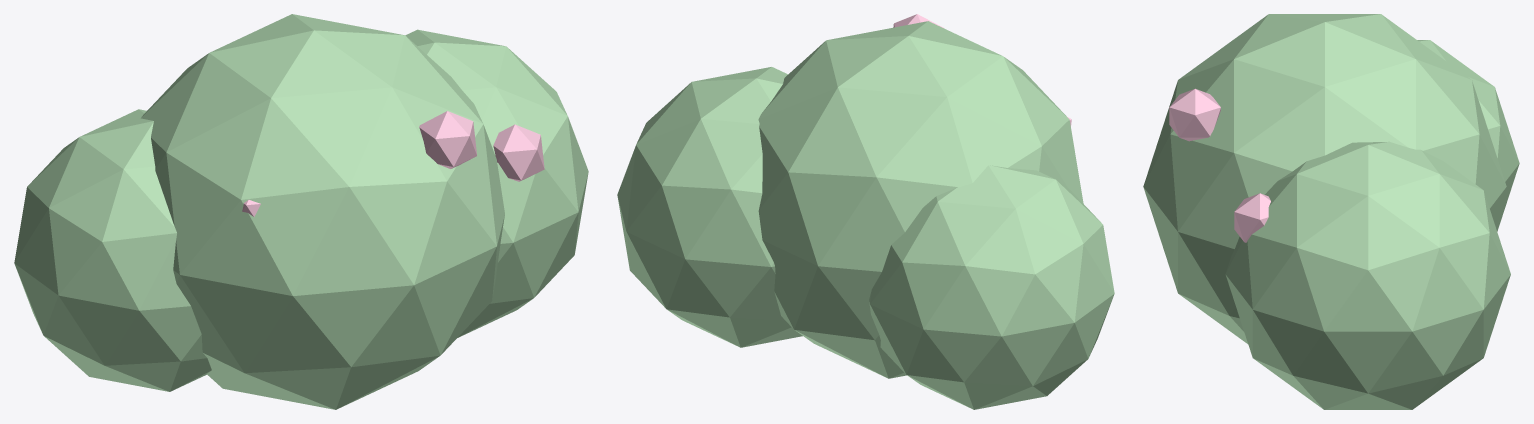
The model's file is ker.glb.
The picture shows the model from 3 angles, left to right: view 1: azimuth 30°, elevation 25°; view 2: azimuth 150°, elevation 25°; view 3: azimuth 270°, elevation 25°; orthographic projection. The views are drawn at different scales.
Parts seen in each view (by area): view 1: ker; view 2: ker; view 3: ker.
Part boxes in pixels (x1,y1,x2,y2): ker: (14,14,588,409); ker: (617,14,1114,409); ker: (1143,14,1519,409).
Size of the model in its own units: 1.25 by 0.84 by 0.87.
